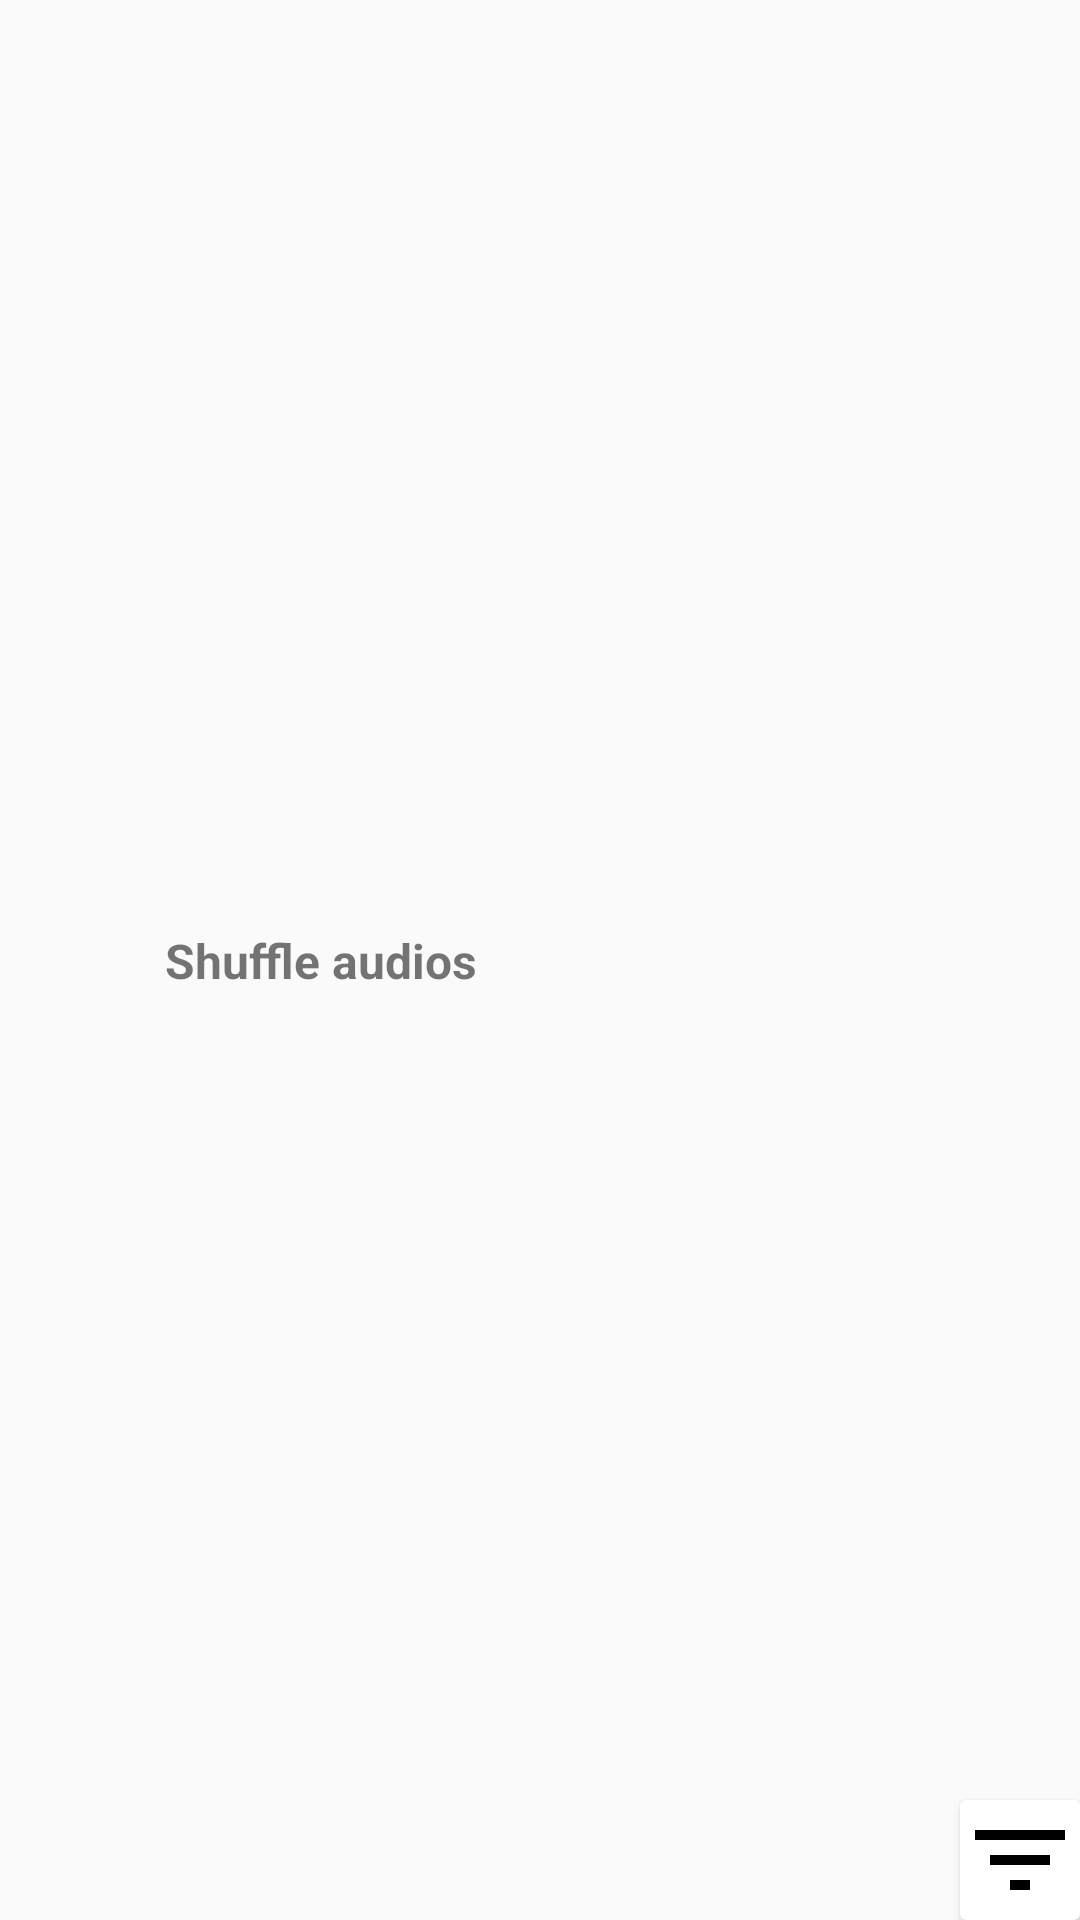

Icon click points for this 1080px×1920px phone screenshot, format [x,y]:
filter list: [1020,1875]
